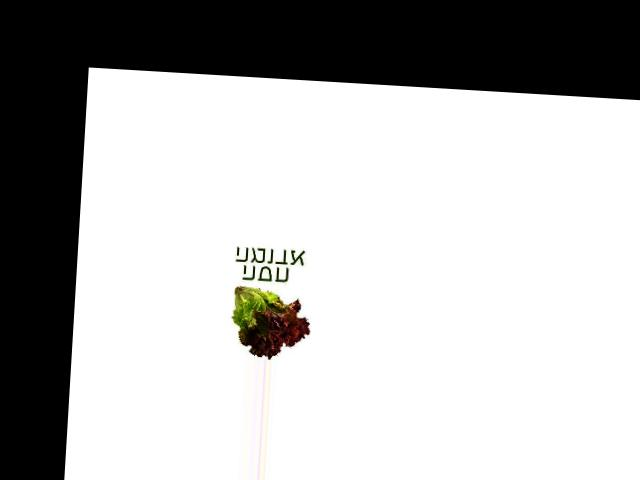lettuce: (222, 282, 314, 361)
